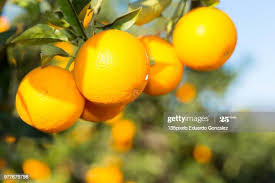orange: (67, 29, 152, 105), (15, 61, 86, 135), (168, 3, 240, 69), (133, 31, 184, 99)
